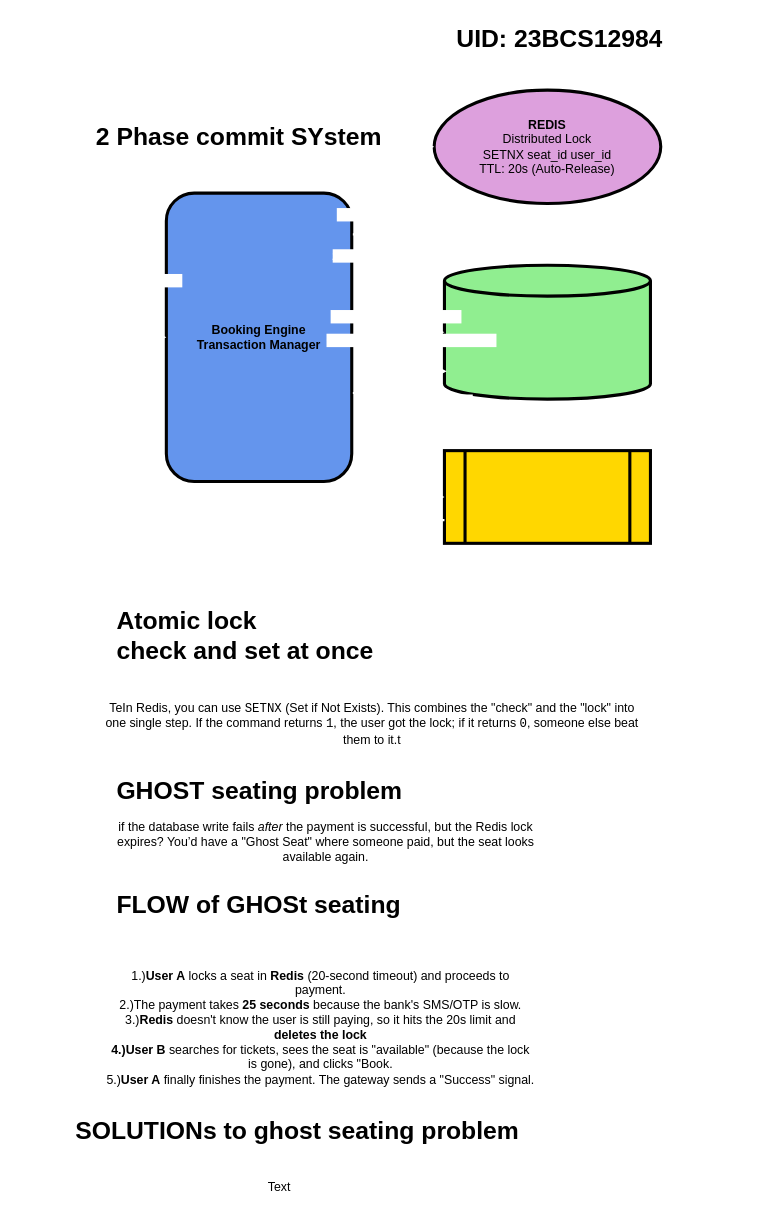
Some shapes in this 761 by 1220 pixel diagram are drawn without their labels. Here are the shapes that lost their labels. From the top down, the centre of each, then its label:
point 546,331: CASSANDRA Row Status: PENDING TTL: 300s Write: Local_Quorum
point 546,496: Payment Gateway Stripe / Razorpay API Event: Webhook Sync
